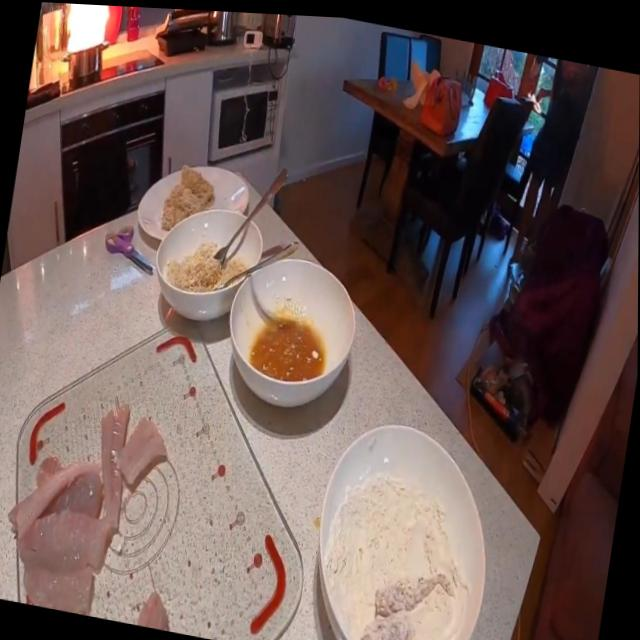fire: (54, 2, 123, 65), (523, 82, 546, 113)
